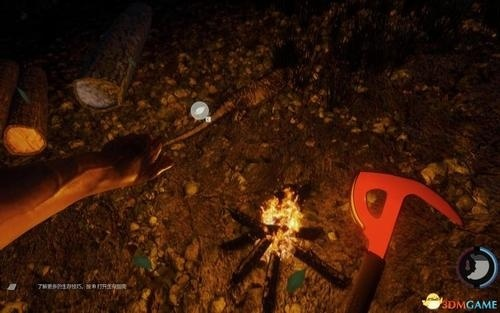fire: (258, 184, 304, 254)
